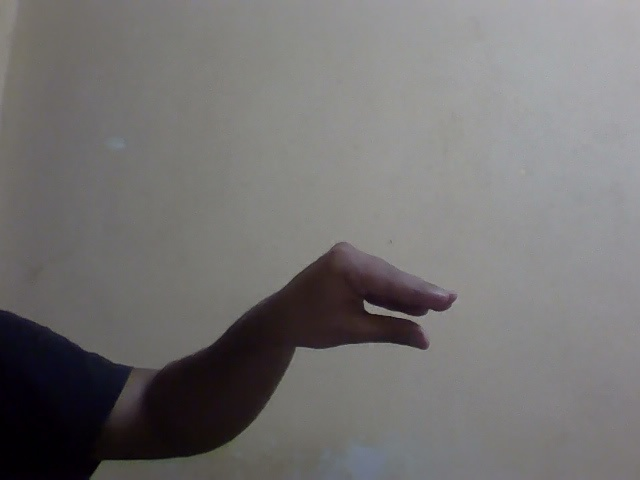No: (247, 224, 467, 365)
